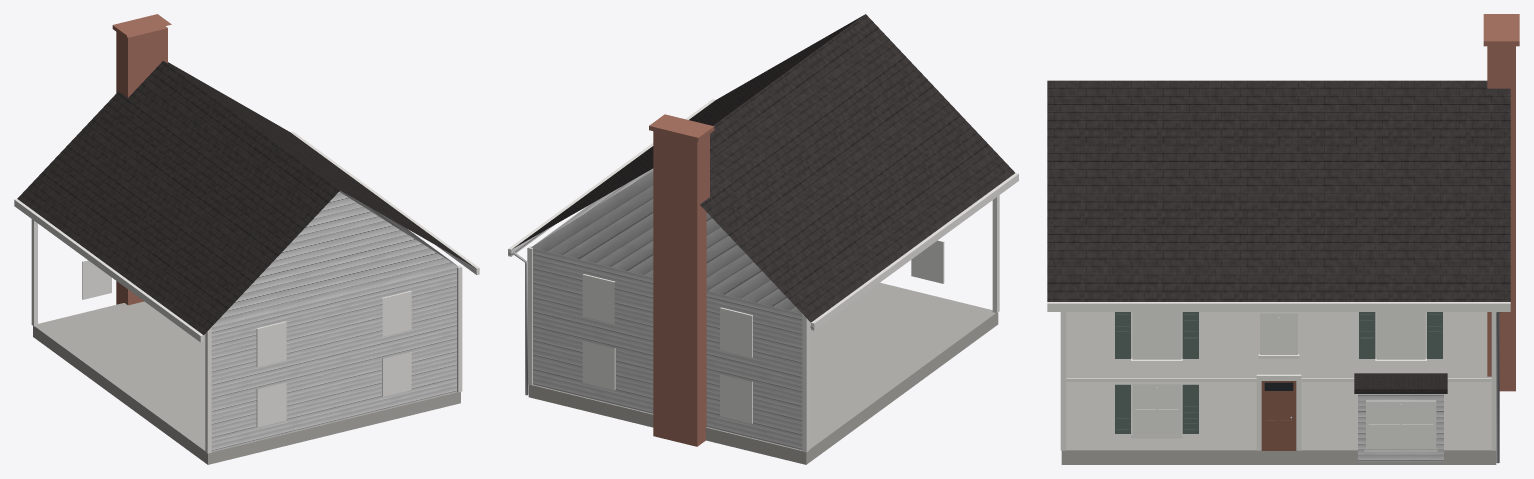
File: house_b.glb
3 views of the same model, side by side, from view 1: azimuth 30°, elevation 25°; view 2: azimuth 150°, elevation 25°; view 3: azimuth 270°, elevation 25° (orthographic). The views are drawn at different scales.
Visible parts, largest first — view 1: House; view 2: House; view 3: House.
Boxes of the visible parts, bbox=[...] form: House: bbox=[14, 14, 479, 464]; House: bbox=[508, 14, 1018, 464]; House: bbox=[1047, 14, 1519, 464].
Size of the model in its own units: 11.52 by 10.81 by 13.15.
Materials: 9 (2 with a texture image).
